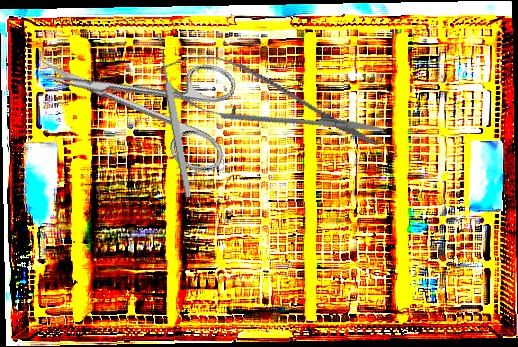Iris Scissors: (23, 14, 250, 178)
Micro Scissor: (147, 39, 392, 167)
Surgical Spoon: (154, 32, 194, 198)
